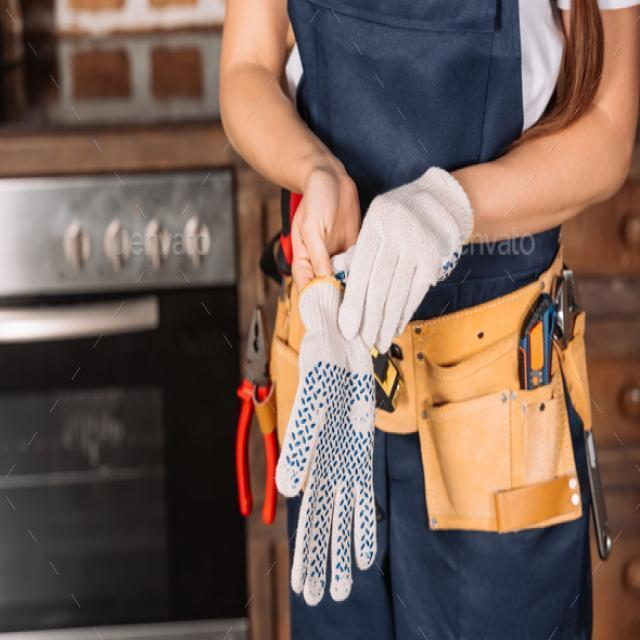Gloves: (262, 281, 388, 610), (322, 154, 482, 357)
Person: (222, 0, 640, 638)
